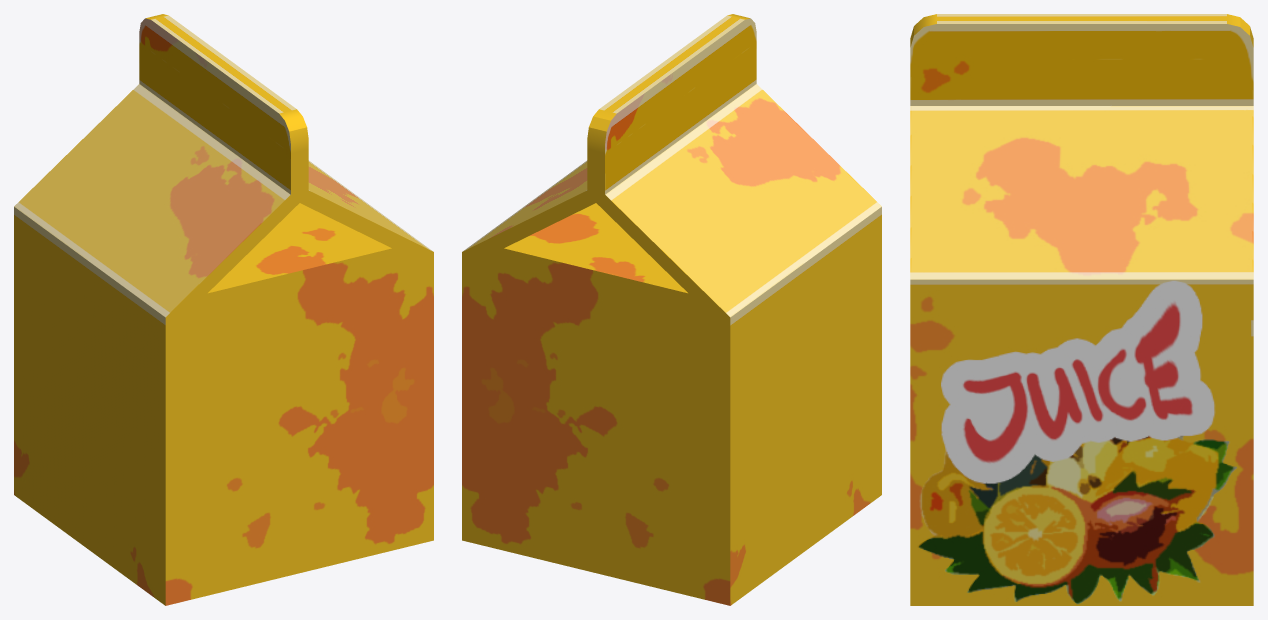
Rendered from PowerUp_02.dae.
The picture shows the model from 3 angles, left to right: view 1: azimuth 30°, elevation 25°; view 2: azimuth 150°, elevation 25°; view 3: azimuth 270°, elevation 25°; orthographic projection. The views are drawn at different scales.
Parts seen in each view (by area): view 1: pCube4; view 2: pCube4; view 3: pCube4.
Boxes of the visible parts, x1,y1,x2,y2 form: pCube4: [14, 14, 433, 605]; pCube4: [462, 14, 881, 605]; pCube4: [910, 14, 1253, 605].
Bounding box in the file's own units: 4.06 × 6.55 × 3.97.
